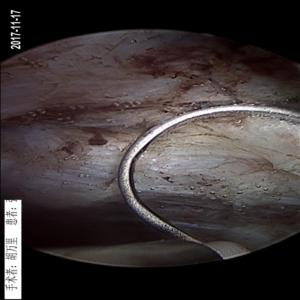film: (17, 91, 193, 139)
